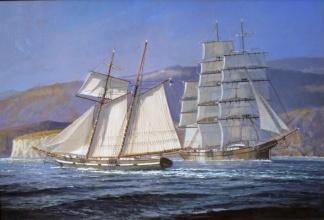fanchuan: (34, 42, 176, 172), (179, 19, 284, 162)
